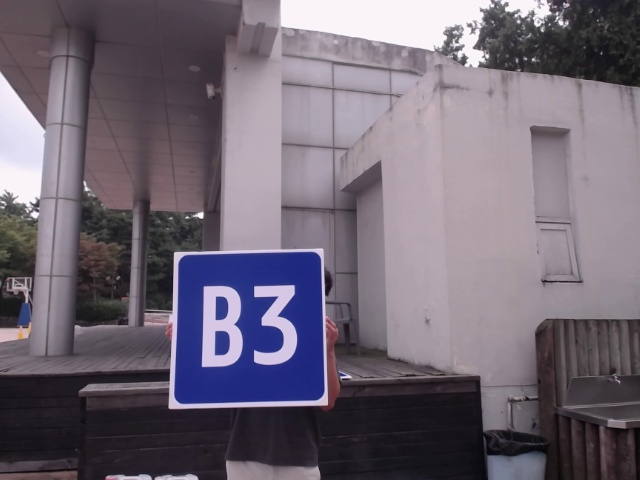delivery_b3: (167, 248, 330, 409)
